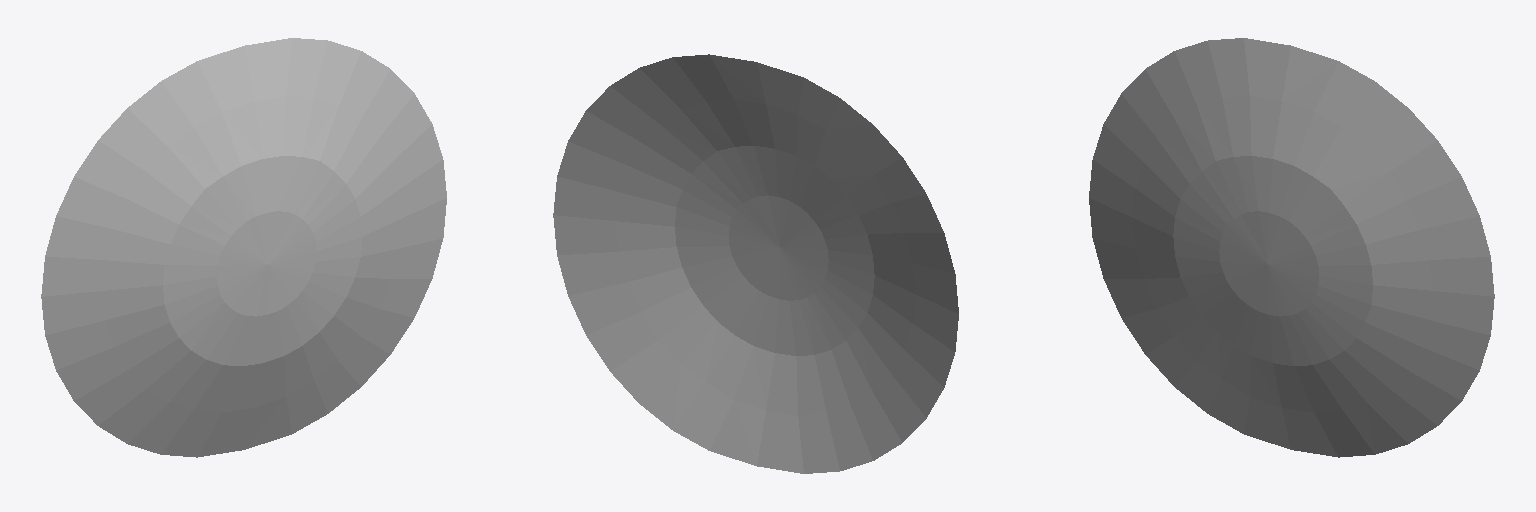
The model's file is tieFighterWindowGlass.obj.
3 renders of one model, left to right at view 1: azimuth 30°, elevation 25°; view 2: azimuth 150°, elevation 25°; view 3: azimuth 330°, elevation 25°, orthographic.
Parts seen in each view (by area): view 1: Sphere.001; view 2: Sphere.001; view 3: Sphere.001.
Part boxes in pixels (bbox=[...]): Sphere.001: bbox=[41, 38, 446, 457]; Sphere.001: bbox=[553, 54, 958, 473]; Sphere.001: bbox=[1089, 38, 1494, 457].
Size of the model in its own units: 1.07 by 1.02 by 0.1074.